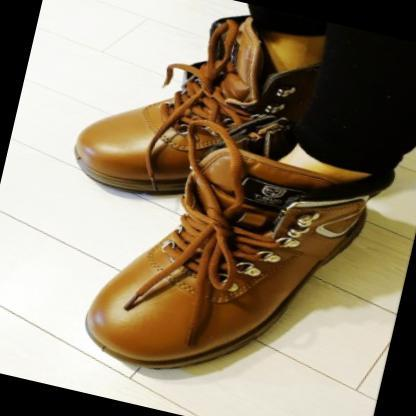safety-shoe: (77, 107, 384, 415), (66, 2, 341, 219)
